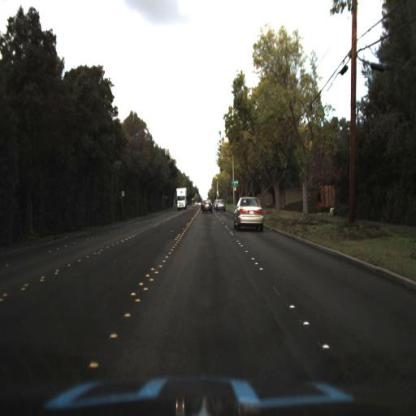car: (237, 189, 269, 232), (213, 197, 230, 217), (203, 196, 216, 216), (216, 197, 228, 211)
pedestrian: (315, 187, 322, 219)
truck: (175, 186, 188, 213)
